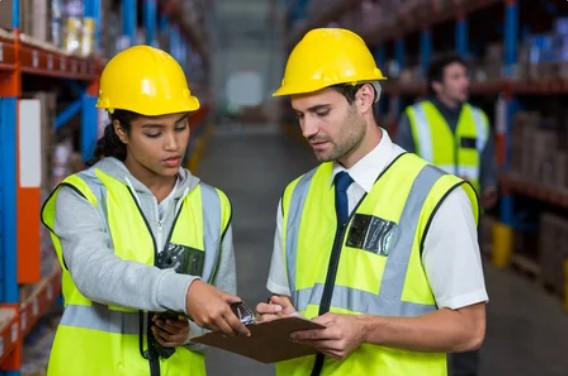worker: (273, 27, 464, 376), (42, 44, 231, 376)
